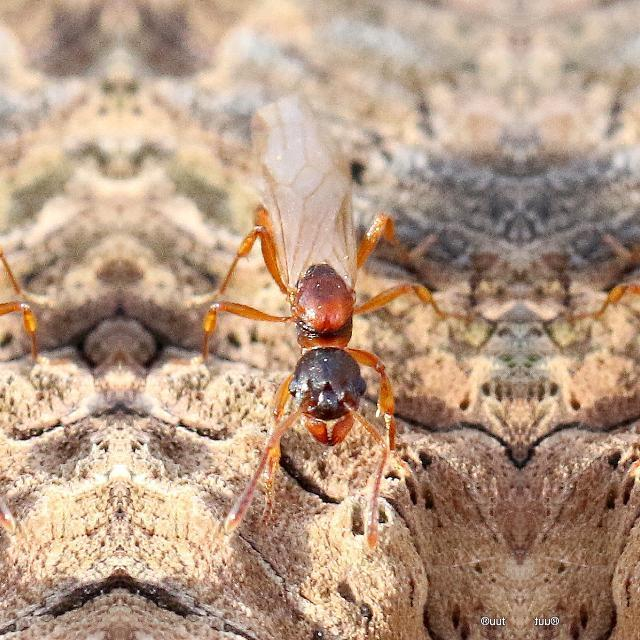Myrmica: (210, 132, 452, 514), (586, 131, 640, 514)
